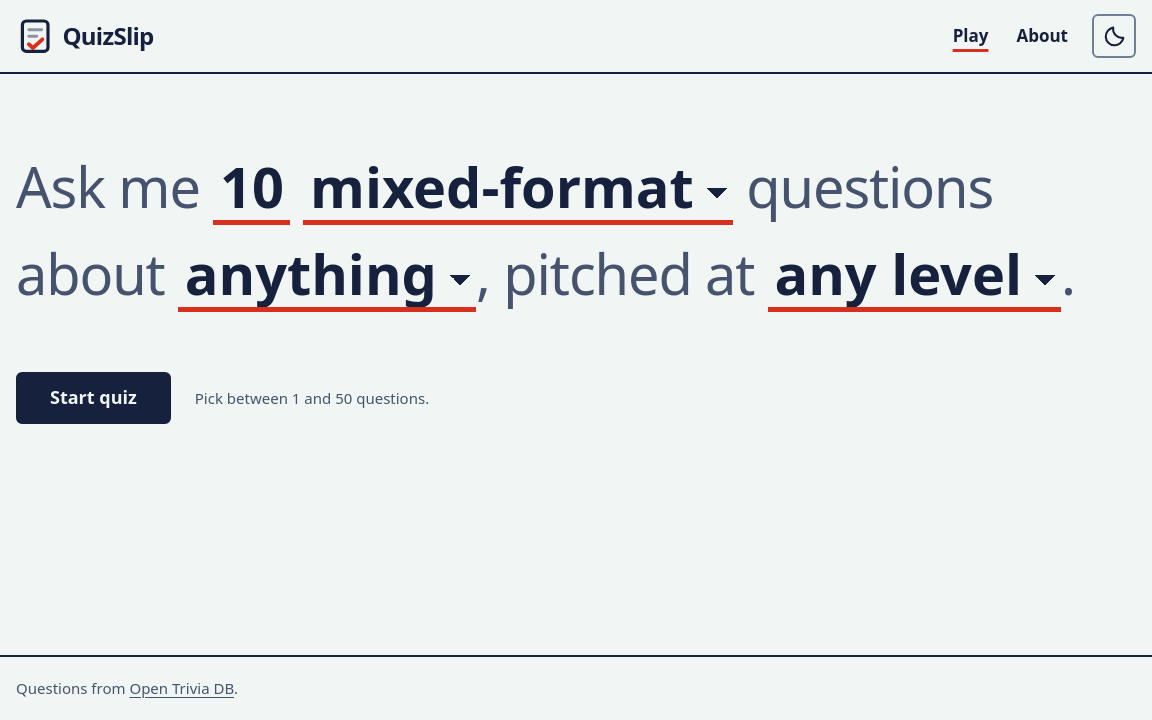
Scenario: app shell › switches the theme and remembers it
Click the button named "Switch to dark theme".
click(1114, 36)  # box top-left (1092, 14), bottom-right (1136, 58)
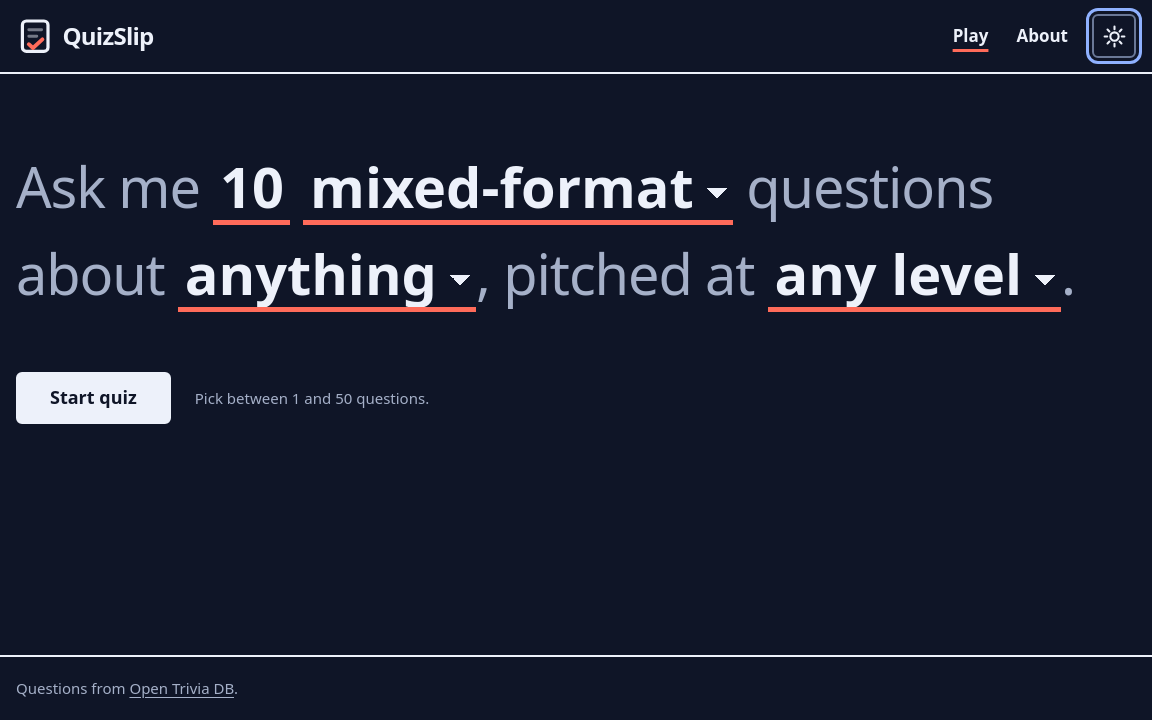
Check: the button named "Switch to light theme" is shown, box top-left (1092, 14), bottom-right (1136, 58)
